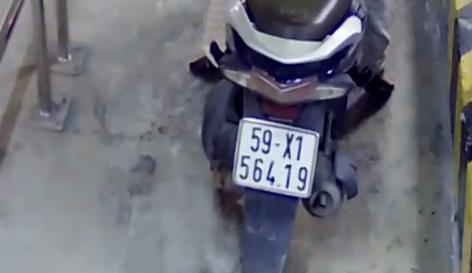lisence: (232, 116, 320, 198)
